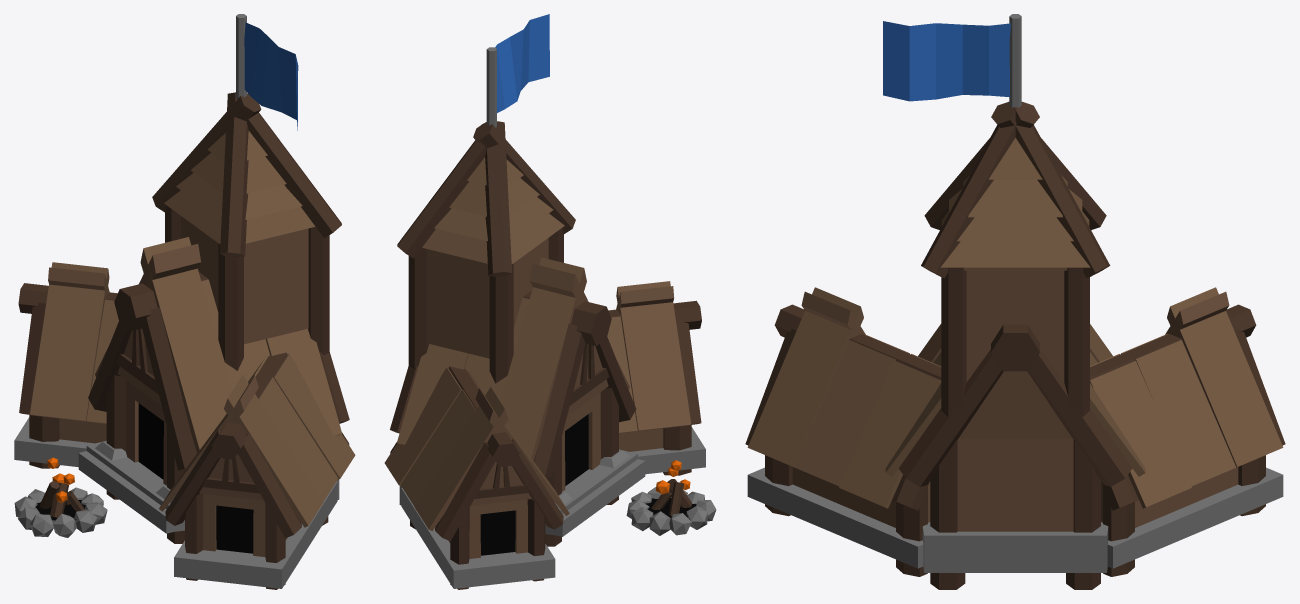
The model's file is HQ LvL 3.fbx.
3 renders of one model, left to right at view 1: azimuth 30°, elevation 25°; view 2: azimuth 150°, elevation 25°; view 3: azimuth 270°, elevation 25°, orthographic. The views are drawn at different scales.
Parts seen in each view (by area): view 1: Main, Tower, Corridor 2, Corridor 1, Fan.001, Fireplace, Fan Pole.001; view 2: Main, Tower, Corridor 1, Corridor 2, Fan.001, Fireplace, Fan Pole.001; view 3: Main, Corridor 2, Corridor 1, Tower, Fan.001, Fan Pole.001.
Part boxes in pixels (left/top/right/bottom): Main: left=78, top=237, right=349, bottom=543; Tower: left=152, top=92, right=341, bottom=370; Corridor 2: left=159, top=352, right=355, bottom=589; Corridor 1: left=14, top=262, right=118, bottom=468; Fan.001: left=244, top=22, right=298, bottom=130; Fireplace: left=14, top=481, right=107, bottom=537; Fan Pole.001: left=236, top=14, right=246, bottom=99; Main: left=390, top=257, right=645, bottom=546; Tower: left=397, top=121, right=575, bottom=383; Corridor 1: left=384, top=366, right=569, bottom=589; Corridor 2: left=607, top=281, right=705, bottom=475; Fan.001: left=495, top=14, right=549, bottom=112; Fireplace: left=626, top=479, right=716, bottom=535; Fan Pole.001: left=486, top=47, right=496, bottom=127; Main: left=885, top=324, right=1145, bottom=589; Corridor 2: left=745, top=287, right=941, bottom=576; Corridor 1: left=1090, top=287, right=1285, bottom=576; Tower: left=921, top=101, right=1110, bottom=417; Fan.001: left=883, top=21, right=1010, bottom=101; Fan Pole.001: left=1009, top=14, right=1021, bottom=107.
Bounding box in the file's own units: 128 × 203 × 182.
